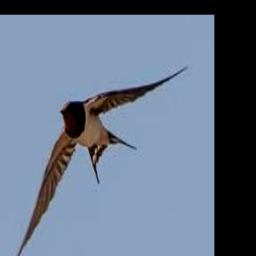Swallow: (6, 66, 189, 256)
